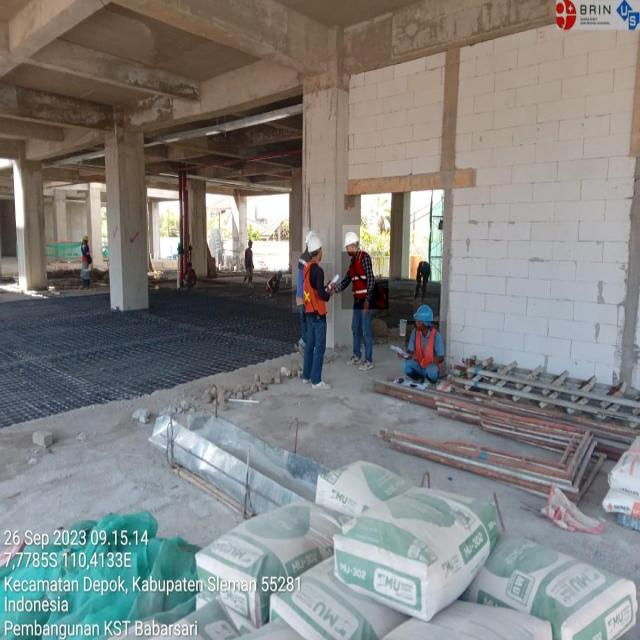Helmet: (414, 298, 438, 333), (343, 225, 363, 257), (307, 234, 327, 254), (302, 227, 312, 257)
Safety Vest: (342, 252, 388, 310), (406, 321, 446, 383), (303, 263, 333, 323), (292, 251, 310, 313)
